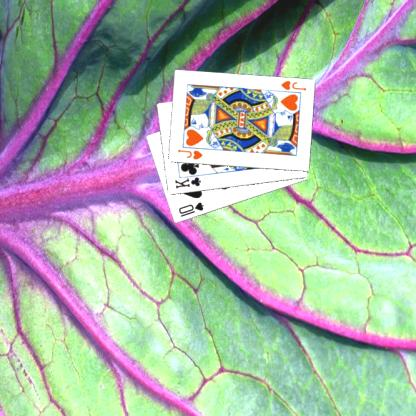10S: (176, 199, 206, 219)
JH: (175, 147, 204, 161), (278, 78, 307, 92)
KC: (172, 172, 204, 190)
